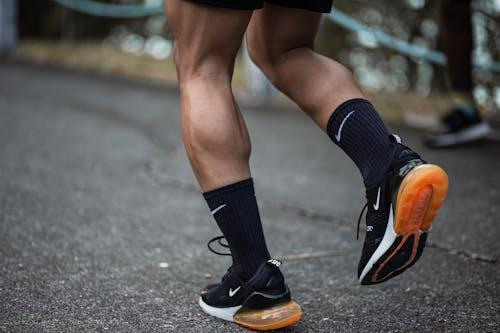nike logo: (368, 180, 391, 213), (221, 283, 245, 305)
sock logo: (202, 178, 270, 281), (326, 99, 396, 181)
